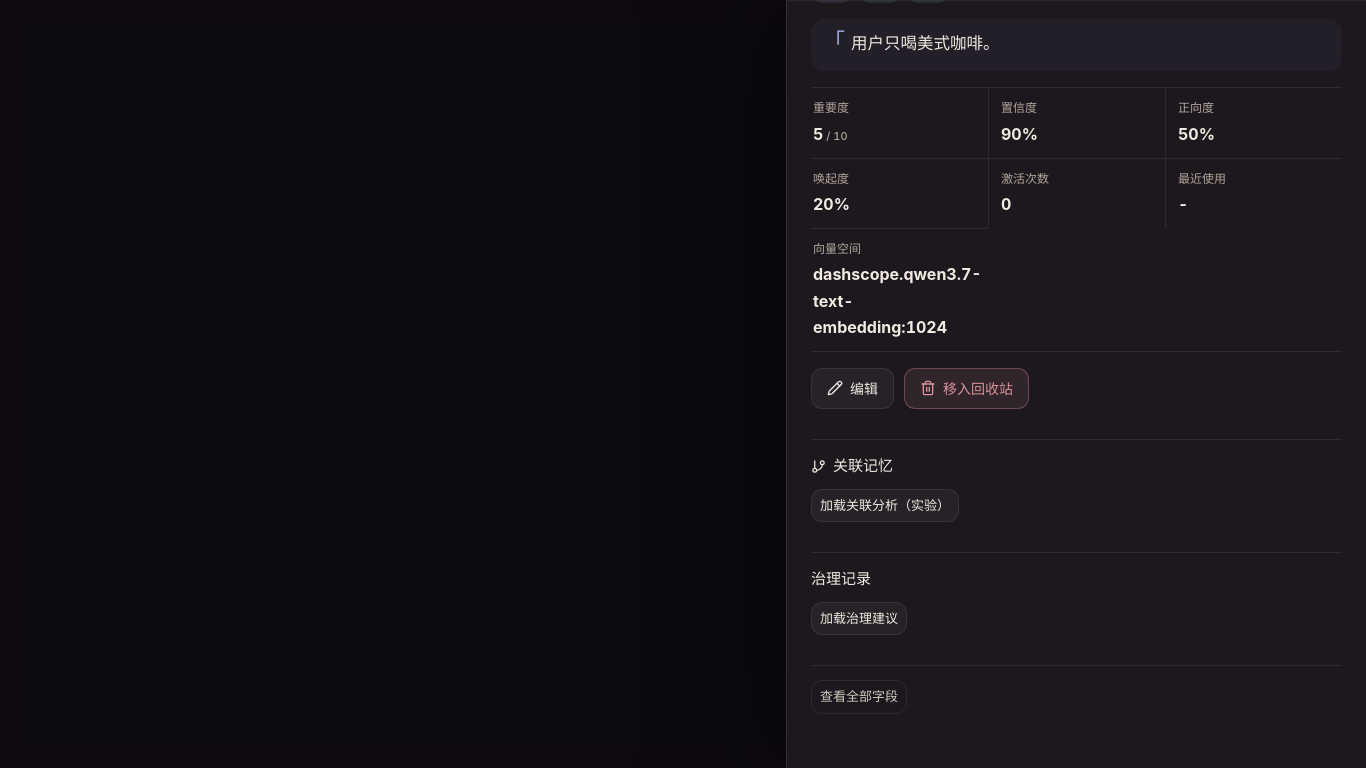
Test: memory detail simple-mode leakage › 在专家模式保留向量空间和全部字段
(page scrolled)
Expected: the text "用户只喝美式咖啡。" is shown, x1=811 y1=19 x2=1342 y2=71
Expected: the text "向量空间" is shown, x1=813 y1=241 x2=861 y2=256
Click the button "查看全部字段" at (859, 697), box x1=811 y1=680 x2=907 y2=714
(page scrolled)
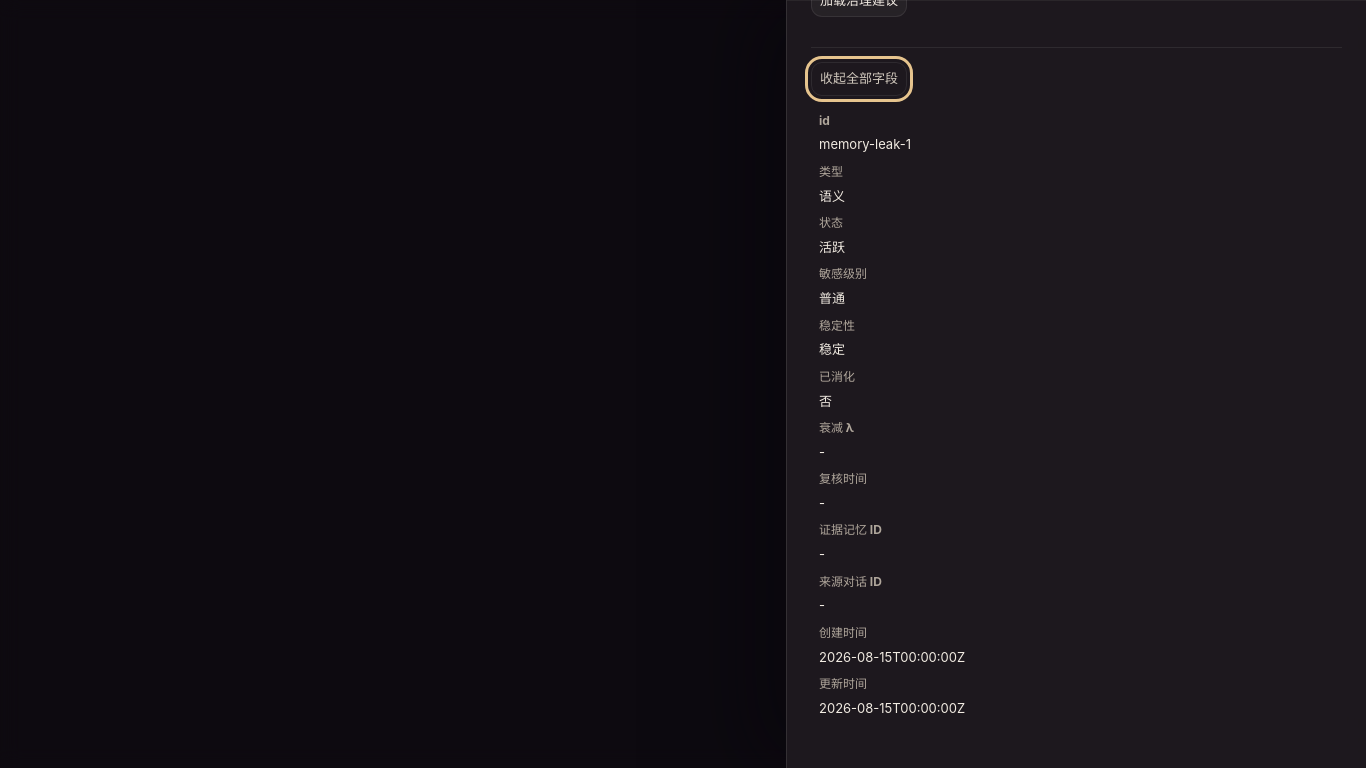
Result: the text "memory-leak-1" is shown at x1=819 y1=136 x2=911 y2=152
Result: the text "衰减 λ" is shown at x1=819 y1=420 x2=854 y2=435
